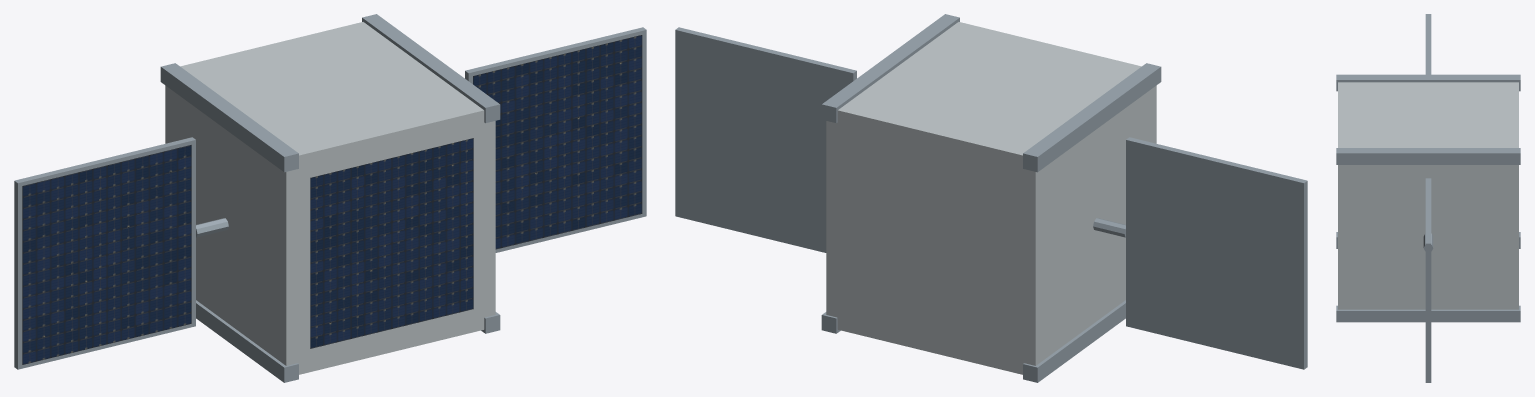
Rendered from ref-cubesat-1u-39151.glb.
The picture shows the model from 3 angles, left to right: view 1: azimuth 30°, elevation 25°; view 2: azimuth 150°, elevation 25°; view 3: azimuth 270°, elevation 25°; orthographic projection. The views are drawn at different scales.
Parts seen in each view (by area): view 1: Spacecraft body, Photovoltaic laminates (×2), Body-mounted cells, Dispenser rail (×3), Array frame (×2); view 2: Spacecraft body, Array frame (×2), Dispenser rail (×3); view 3: Spacecraft body, Dispenser rail (×3), Array frame (×2).
Part boxes in pixels (x1,y1,x2,y2): Spacecraft body: [165, 22, 495, 374]; Photovoltaic laminates (×2): [22, 35, 642, 364]; Body-mounted cells: [310, 138, 473, 348]; Dispenser rail (×3): [160, 14, 500, 382]; Array frame (×2): [14, 27, 646, 369]; Spacecraft body: [826, 22, 1156, 374]; Array frame (×2): [675, 27, 1307, 369]; Dispenser rail (×3): [821, 14, 1161, 382]; Spacecraft body: [1338, 82, 1518, 309]; Dispenser rail (×3): [1336, 74, 1520, 322]; Array frame (×2): [1425, 14, 1431, 382].
Bounding box in the file's own units: 0.3 × 0.103 × 0.102.
3 materials, 1 textured.
